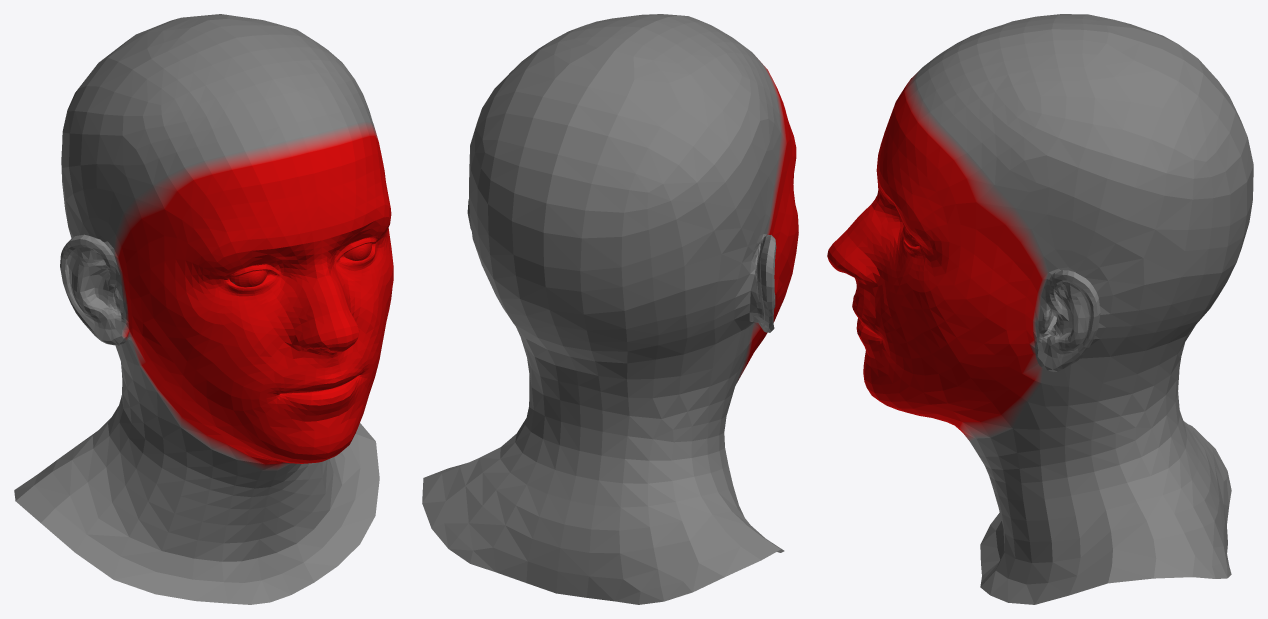
Rendered from head_template_color.obj.
3 views of the same model, side by side, from view 1: azimuth 30°, elevation 25°; view 2: azimuth 150°, elevation 25°; view 3: azimuth 270°, elevation 25° (orthographic). The views are drawn at different scales.
Bounding box in the file's own units: 0.2073 × 0.3136 × 0.2217.
